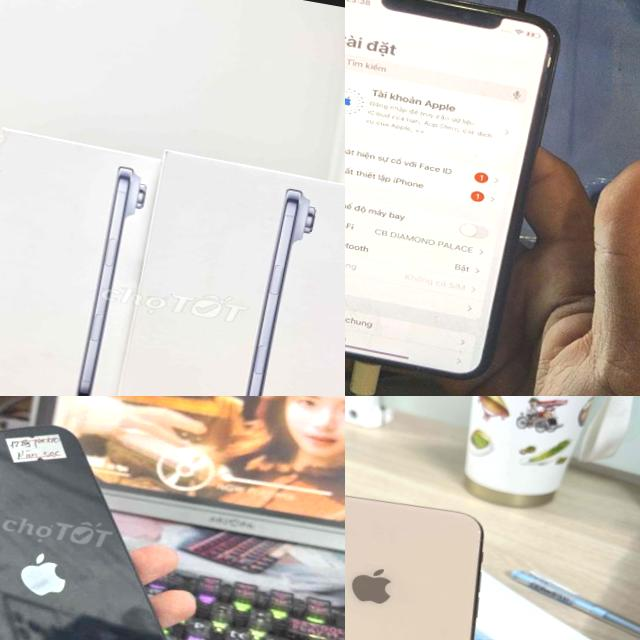gen_12_13: (0, 397, 235, 640)
gen_17: (207, 171, 332, 396)
gen_x_xs: (345, 0, 560, 388), (345, 480, 515, 640)
